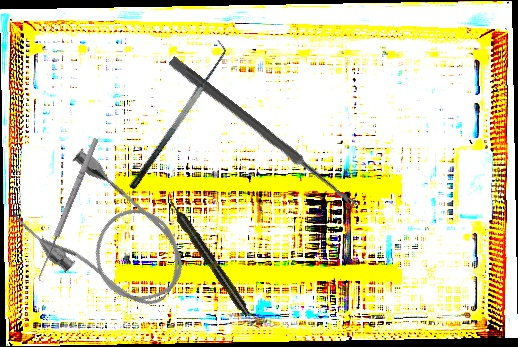Cannula: (5, 140, 205, 333)
Handpiece: (165, 196, 253, 319)
Hook Surgical: (33, 136, 106, 285)
Spatula Surgical: (116, 39, 237, 192)
Surgical Spoon: (167, 55, 360, 211)
